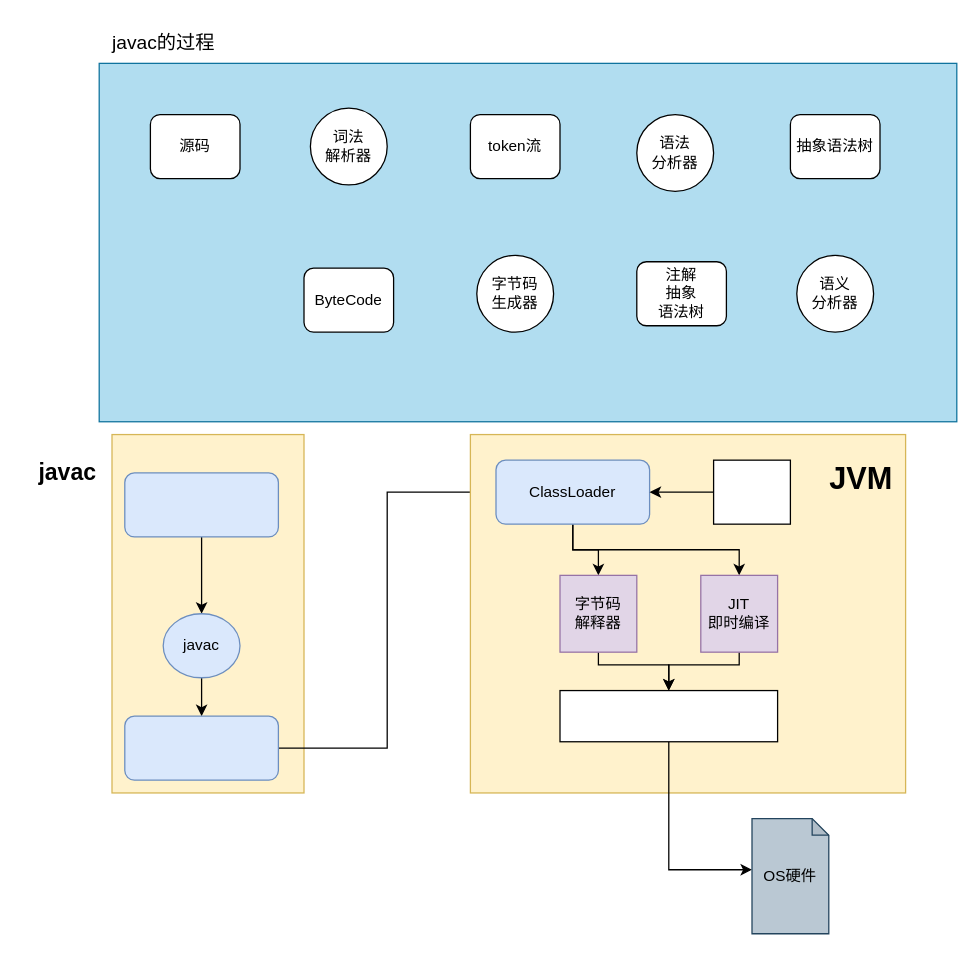
Some shapes in this 979 by 956 pixel diagram are drawn without their labels. Each missing label, with the centre of its shape:
java 类库: the point at 751,491
X.class: the point at 201,747
X.java: the point at 201,504
执行引擎: the point at 668,715
